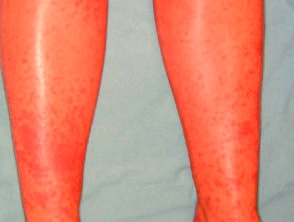SJS-TEN: (0, 78, 100, 222)
